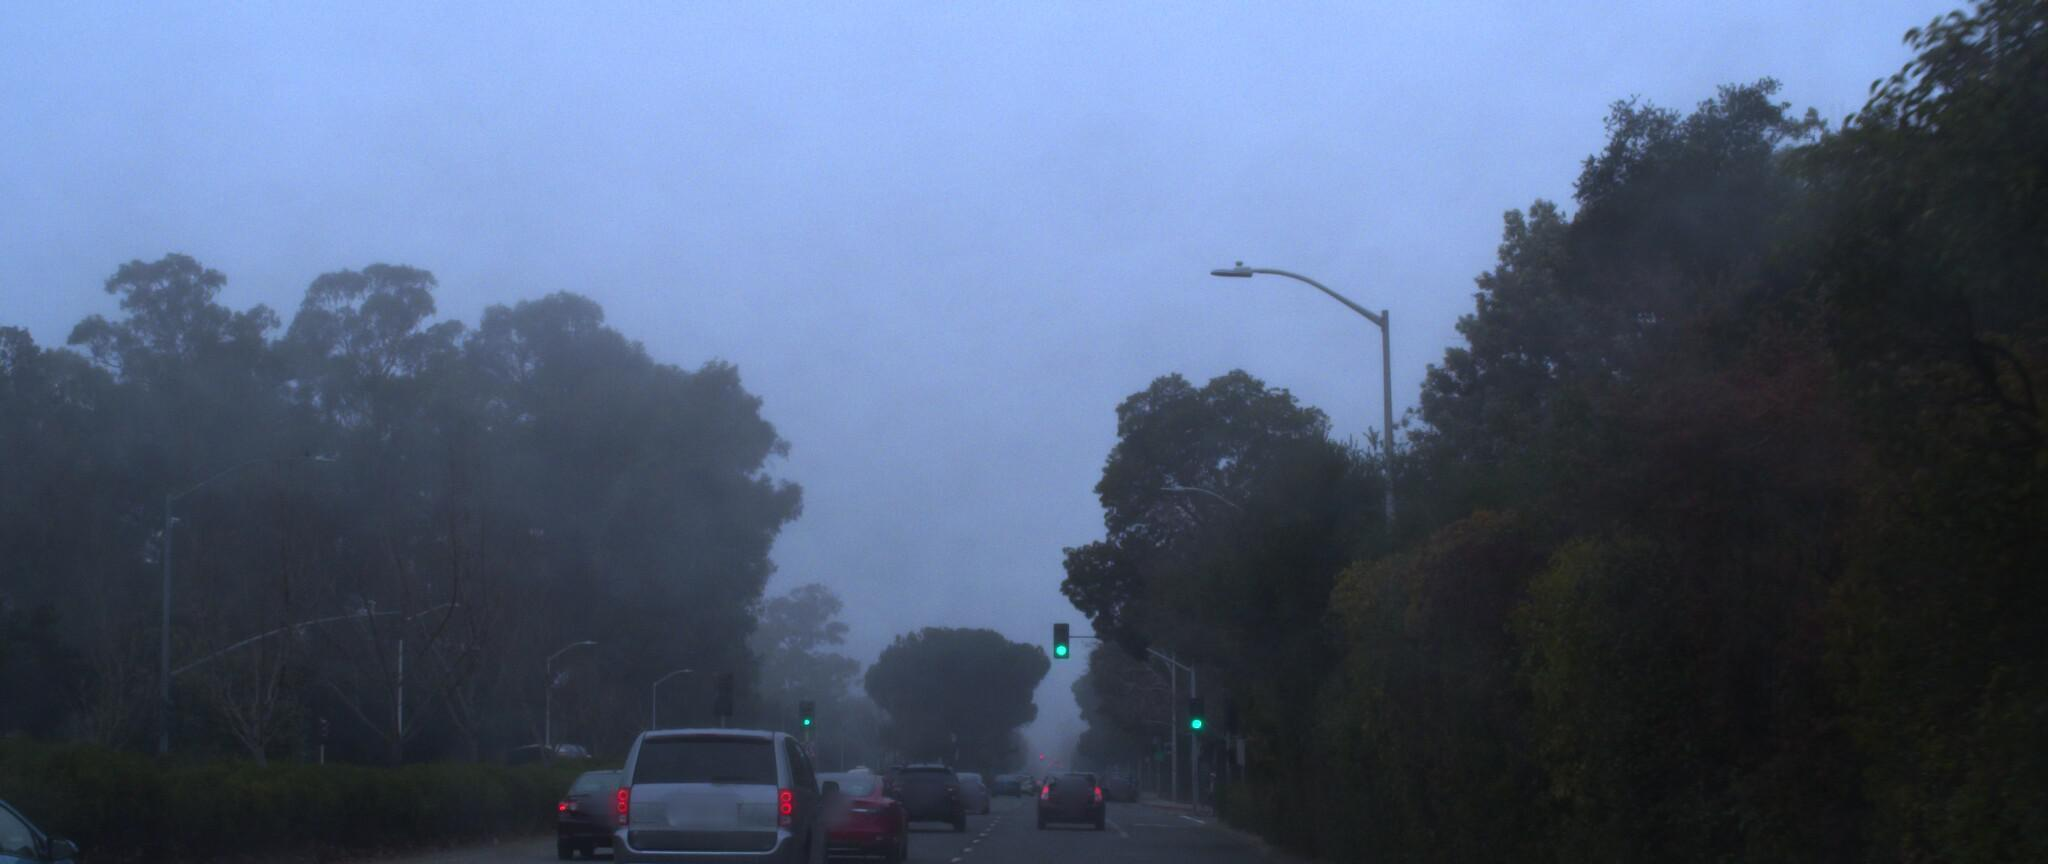car: (594, 714, 846, 864), (0, 764, 142, 864), (539, 760, 686, 856), (778, 754, 916, 854), (895, 745, 978, 817), (1031, 743, 1105, 816)
